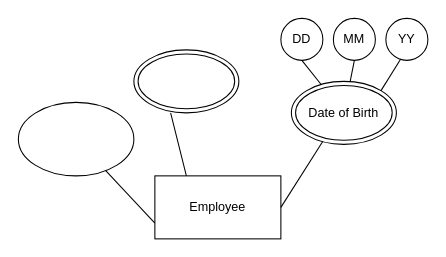
The diagram is 446 pixels wide and 257 high, and some of its shapes have lost their labels. Each missing label, with the box of its shape:
Employee_ID: (17, 101, 134, 176)
Name: (133, 49, 239, 113)
